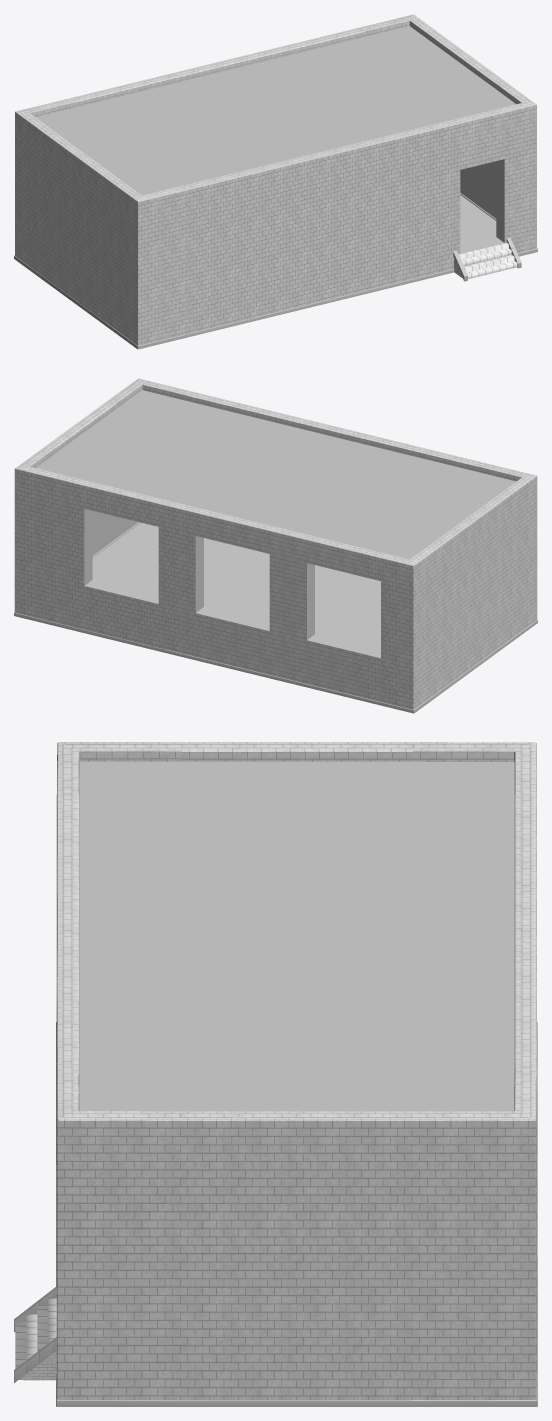
File: building.fbx
3 renders of one model, top to bottom at view 1: azimuth 30°, elevation 25°; view 2: azimuth 150°, elevation 25°; view 3: azimuth 270°, elevation 25°, orthographic. The views are drawn at different scales.
Visible parts, largest first — view 1: building; view 2: building; view 3: building.
Boxes of the visible parts, x1,y1,x2,y2 form: building: (14,14,537,349); building: (14,378,537,713); building: (14,742,537,1406).
Bounding box in the file's own units: 1080 × 383 × 630.
